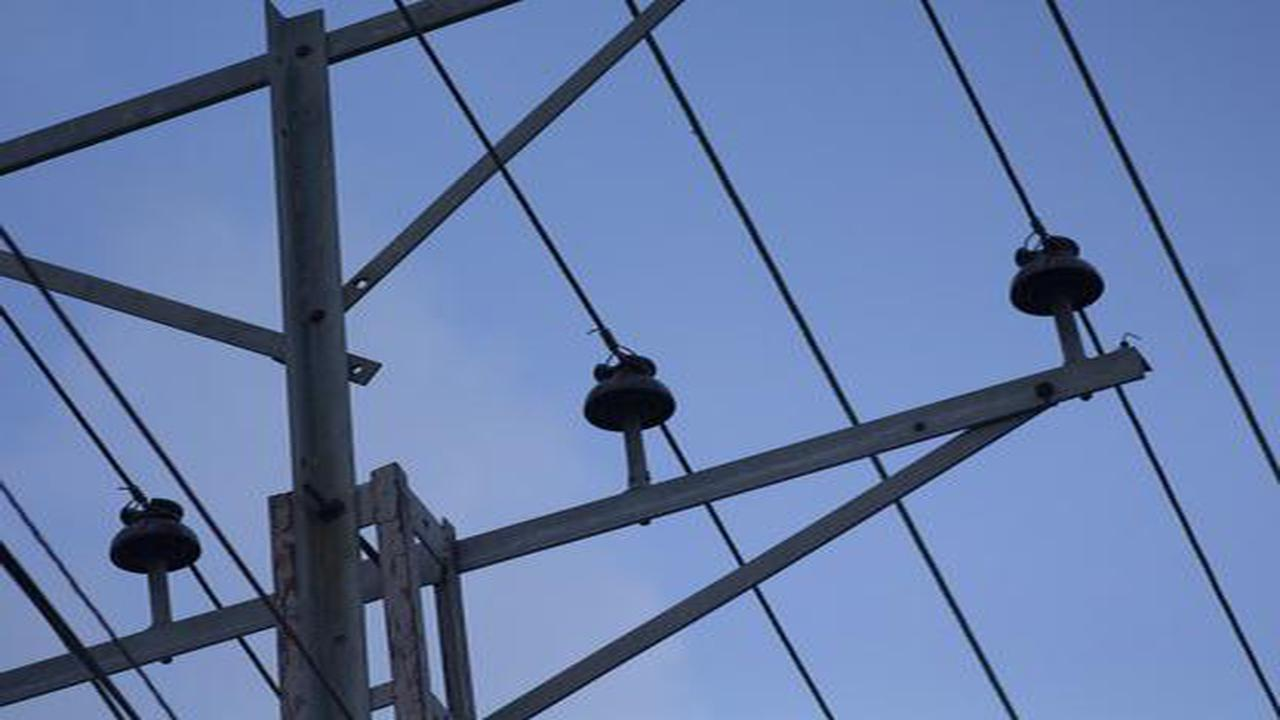insulator_pin: (998, 226, 1111, 329), (573, 349, 681, 439), (101, 496, 211, 581)
